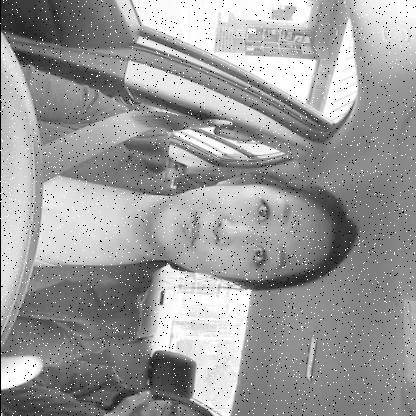seatbelt: (0, 109, 368, 305)
